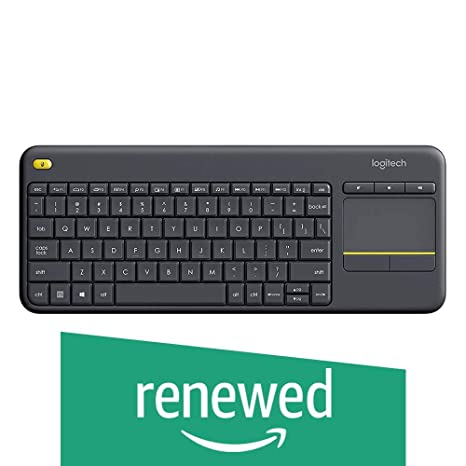logitech-keyboard-k400: (16, 141, 452, 316)
